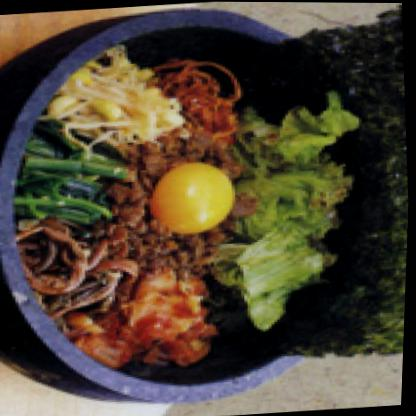bibimbap: (0, 11, 383, 387)
